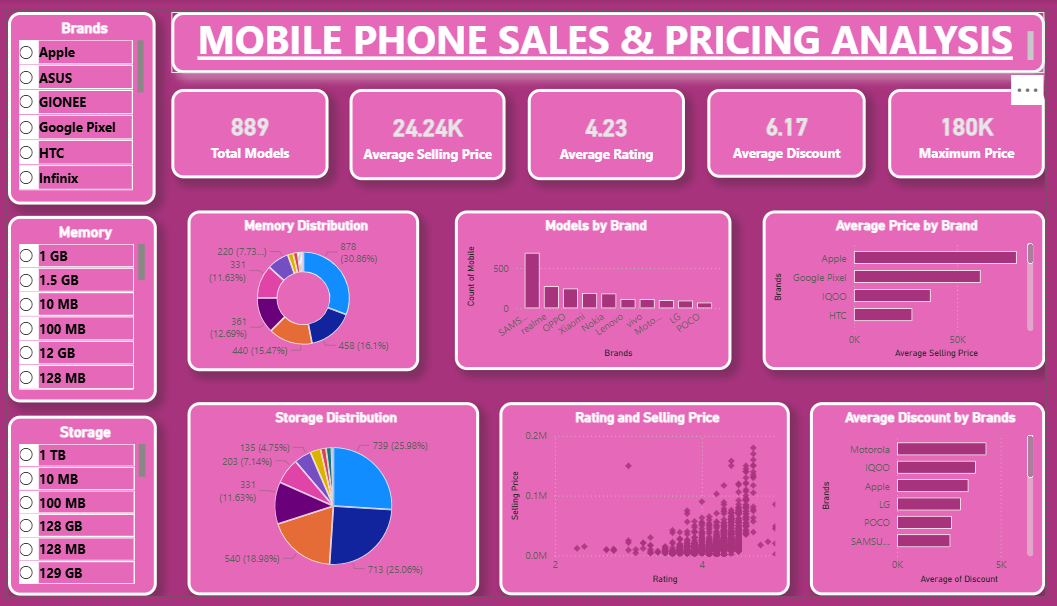

Layout of this report page (visuals, bound fields, positions):
{"tool":"powerbi","page":{"name":"DASHBOARD","canvas":[1280,720],"ordinal":0},"visuals":[{"type":"card","fields":{"Values":["Cleaned_Mobile_Data.Total Models"]},"box":[201.4,94.3,194.3,110],"z":0},{"type":"card","fields":{"Values":["Cleaned_Mobile_Data.Average Selling Price"]},"box":[421.4,95.7,192.9,112.8],"z":1000},{"type":"card","fields":{"Values":["Cleaned_Mobile_Data.Average Rating"]},"box":[641.4,95.7,194.3,112.8],"z":2000},{"type":"card","fields":{"Values":["Cleaned_Mobile_Data.Average Discount"]},"box":[862.9,94.3,195.7,110],"z":3000},{"type":"card","fields":{"Values":["Cleaned_Mobile_Data.Maximum Price"]},"box":[1086.7,95,193.3,110],"z":4000},{"type":"clusteredColumnChart","title":"Models by Brand","fields":{"Category":["Cleaned_Mobile_Data.Brands"],"Y":["CountNonNull(Cleaned_Mobile_Data.Mobile)"]},"box":[551.4,245.7,341.4,197.1],"z":5000},{"type":"listSlicer","fields":{"Values":["Cleaned_Mobile_Data.Brands"]},"box":[0,0,182,238],"z":6000},{"type":"donutChart","title":"Memory Distribution","fields":{"Y":["CountNonNull(Cleaned_Mobile_Data.Mobile)"],"Category":["Cleaned_Mobile_Data.Memory_GB"]},"box":[221.4,244.3,285.7,198.6],"z":7000},{"type":"pieChart","title":"Storage Distribution","fields":{"Category":["Cleaned_Mobile_Data.Storage_GB"],"Y":["CountNonNull(Cleaned_Mobile_Data.Mobile)"]},"box":[221.4,481.4,360,238.6],"z":8000},{"type":"scatterChart","fields":{"X":["Cleaned_Mobile_Data.Rating"],"Y":["Cleaned_Mobile_Data.Selling Price"]},"box":[607.1,481.4,358.6,238.6],"z":9000},{"type":"barChart","title":"Average Discount by Brands","fields":{"Category":["Cleaned_Mobile_Data.Brands"],"Y":["Avg(Cleaned_Mobile_Data.Discount)"]},"box":[990,481.4,290,238.6],"z":10000},{"type":"listSlicer","fields":{"Values":["Cleaned_Mobile_Data.Memory"]},"box":[0,252,184,230],"z":11000},{"type":"listSlicer","fields":{"Values":["Cleaned_Mobile_Data.Storage"]},"box":[0,498,184,222],"z":12000},{"type":"textbox","box":[201.4,0,1078.6,75.7],"z":13000},{"type":"barChart","title":"Average Price by Brand","fields":{"Y":["Cleaned_Mobile_Data.Average Selling Price"],"Category":["Cleaned_Mobile_Data.Brands"]},"box":[931.4,245.7,348.6,197.1],"z":14000}]}

Visuals, with their boxes in screenshot pixels (x1, y1, x2, y2), scaled from the page's 1280x720 canvas onto the 1057x606 screenshot:
card - Cleaned_Mobile_Data.Total Models: box(166, 79, 327, 172)
card - Cleaned_Mobile_Data.Average Selling Price: box(348, 81, 507, 175)
card - Cleaned_Mobile_Data.Average Rating: box(530, 81, 690, 175)
card - Cleaned_Mobile_Data.Average Discount: box(713, 79, 874, 172)
card - Cleaned_Mobile_Data.Maximum Price: box(897, 80, 1056, 173)
"Models by Brand" clusteredColumnChart: box(455, 207, 737, 373)
listSlicer - Cleaned_Mobile_Data.Brands: box(0, 0, 150, 200)
"Memory Distribution" donutChart: box(183, 206, 419, 373)
"Storage Distribution" pieChart: box(183, 405, 480, 605)
scatterChart - Cleaned_Mobile_Data.Rating x Cleaned_Mobile_Data.Selling Price: box(501, 405, 797, 605)
"Average Discount by Brands" barChart: box(818, 405, 1056, 605)
listSlicer - Cleaned_Mobile_Data.Memory: box(0, 212, 152, 406)
listSlicer - Cleaned_Mobile_Data.Storage: box(0, 419, 152, 605)
textbox: box(166, 0, 1056, 64)
"Average Price by Brand" barChart: box(769, 207, 1056, 373)
